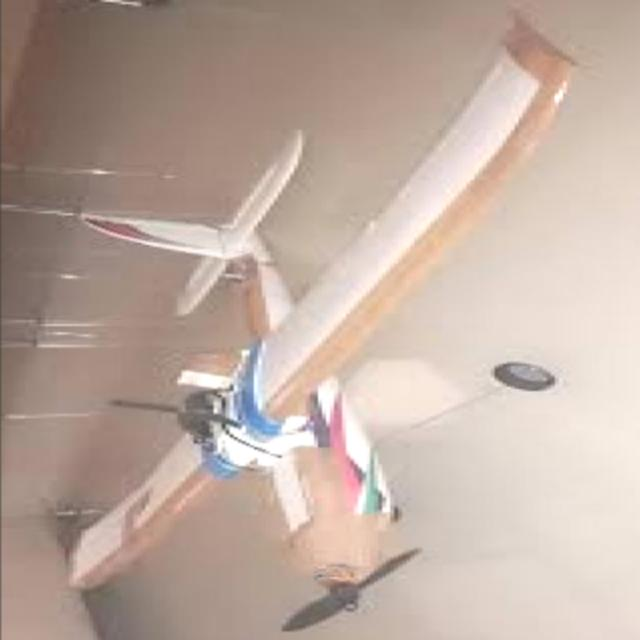plane: (55, 12, 574, 634)
